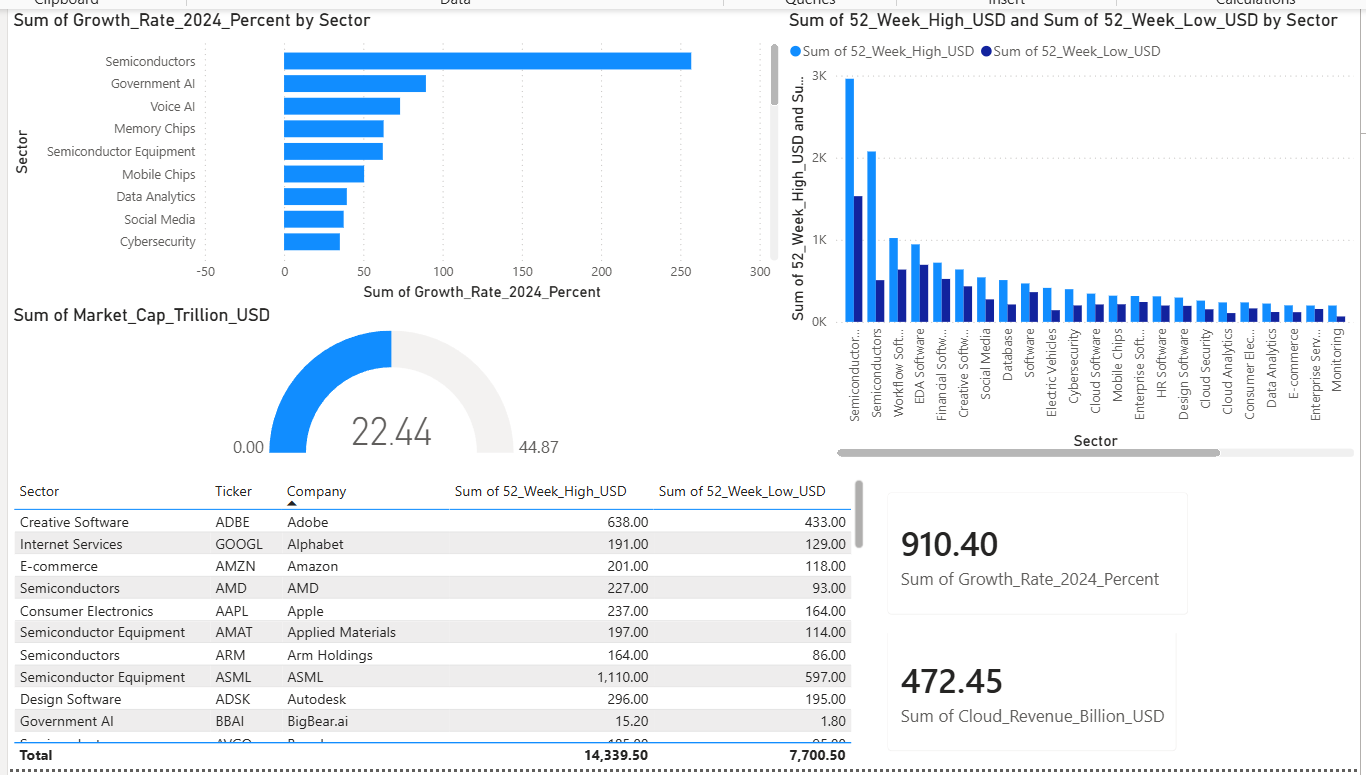

Layout of this report page (visuals, bound fields, positions):
{"tool":"powerbi","page":{"name":"Industry Overview","canvas":[1280,720],"ordinal":0},"visuals":[{"type":"tableEx","fields":{"Values":["Technology and AI Companies Market Dataset.Sector","Technology and AI Companies Market Dataset.Ticker","Technology and AI Companies Market Dataset.Company","Sum(Technology and AI Companies Market Dataset.52_Week_High_USD)","Sum(Technology and AI Companies Market Dataset.52_Week_Low_USD)"]},"box":[0,440.2,815.2,279.8],"z":0},{"type":"barChart","fields":{"Category":["Technology and AI Companies Market Dataset.Sector"],"Y":["Sum(Technology and AI Companies Market Dataset.Growth_Rate_2024_Percent)"]},"box":[0,0,734.2,279.8],"z":1000},{"type":"cardVisual","fields":{"Data":["Sum(Technology and AI Companies Market Dataset.Cloud_Revenue_Billion_USD)"]},"box":[815.2,569.5,308.2,150.5],"z":2000},{"type":"cardVisual","fields":{"Data":["Sum(Technology and AI Companies Market Dataset.Growth_Rate_2024_Percent)"]},"box":[815.2,440.2,319.5,150.5],"z":3000},{"type":"clusteredColumnChart","fields":{"Y":["Sum(Technology and AI Companies Market Dataset.52_Week_High_USD)","Sum(Technology and AI Companies Market Dataset.52_Week_Low_USD)"],"Category":["Technology and AI Companies Market Dataset.Sector"]},"box":[734.2,0,545.3,428.9],"z":4000},{"type":"gauge","fields":{"Y":["Sum(Technology and AI Companies Market Dataset.Market_Cap_Trillion_USD)"]},"box":[0,280,734,150],"z":5000}]}

Visuals, with their boxes on the page's 1280x720 design canvas (x1, y1, x2, y2). These are canvas units, not pixel positions in the 1366x775 screenshot, which may show the page scaled, cropped or inside an application window:
tableEx - Technology and AI Companies Market Dataset.Sector x Technology and AI Companies Market Dataset.Ticker: l=0, t=440, r=815, b=720
barChart - Technology and AI Companies Market Dataset.Sector x Sum(Technology and AI Companies Market Dataset.Growth_Rate_2024_Percent): l=0, t=0, r=734, b=280
cardVisual - Sum(Technology and AI Companies Market Dataset.Cloud_Revenue_Billion_USD): l=815, t=570, r=1123, b=720
cardVisual - Sum(Technology and AI Companies Market Dataset.Growth_Rate_2024_Percent): l=815, t=440, r=1135, b=591
clusteredColumnChart - Sum(Technology and AI Companies Market Dataset.52_Week_High_USD) x Sum(Technology and AI Companies Market Dataset.52_Week_Low_USD): l=734, t=0, r=1280, b=429
gauge - Sum(Technology and AI Companies Market Dataset.Market_Cap_Trillion_USD): l=0, t=280, r=734, b=430
